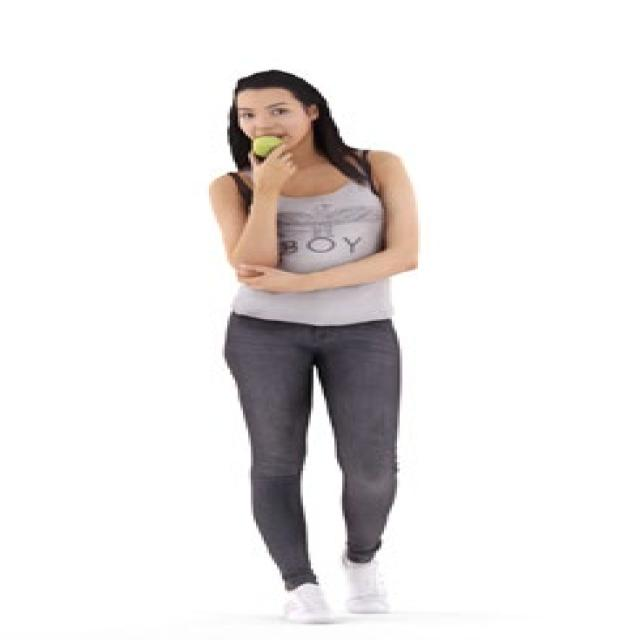standing: (206, 67, 424, 628)
